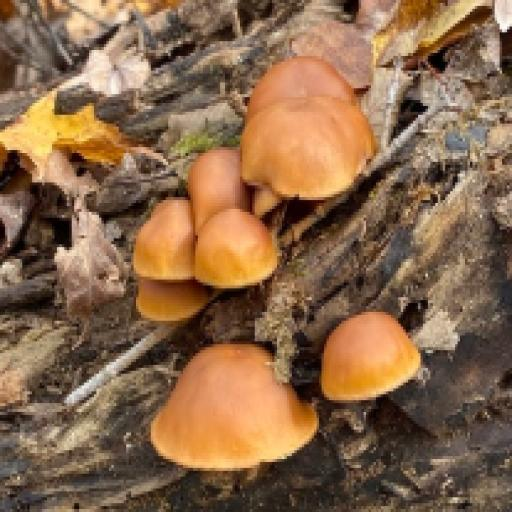mushroom: (111, 44, 375, 316)
